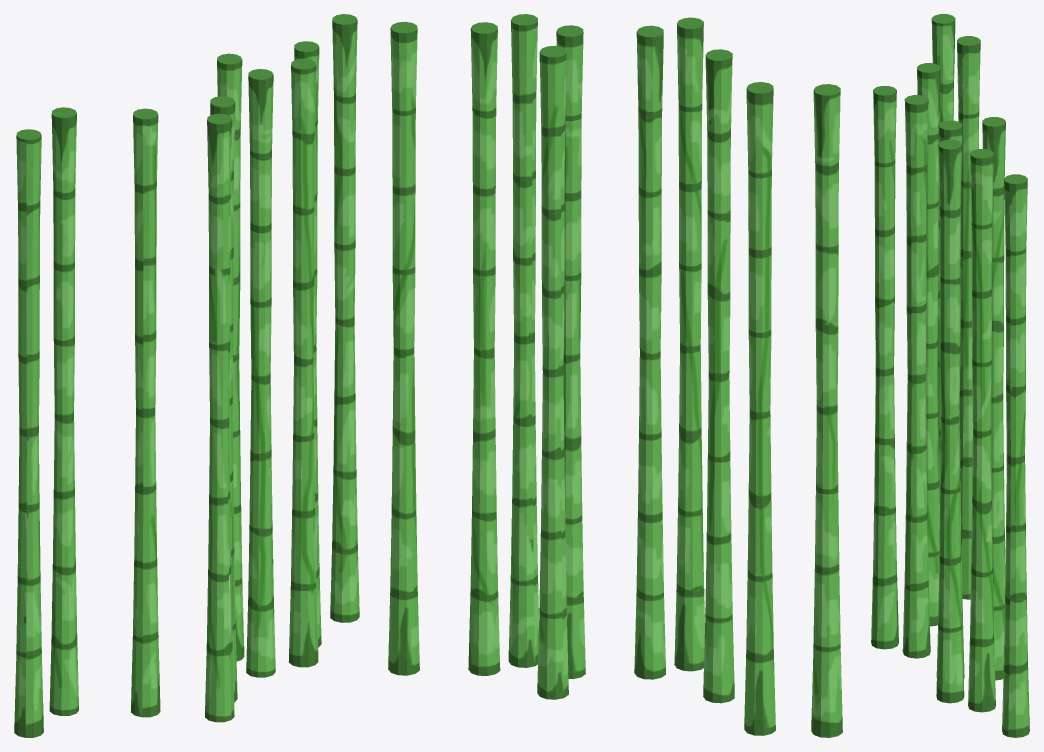
File: 20x30 Bamboo.fbx
3 views of the same model, side by side, from view 1: azimuth 30°, elevation 25°; view 2: azimuth 150°, elevation 25°; view 3: azimuth 270°, elevation 25° (orthographic). The views are drawn at different scales.
Visible parts, largest first — view 1: polySurface11; view 2: polySurface11; view 3: polySurface11.
Boxes of the visible parts, x1=… form: polySurface11: x1=14, y1=14, x2=359, y2=737; polySurface11: x1=388, y1=14, x2=842, y2=737; polySurface11: x1=871, y1=14, x2=1029, y2=737.
Bounding box in the file's own units: 20 × 30 × 7.81.
1 material, 1 textured.
